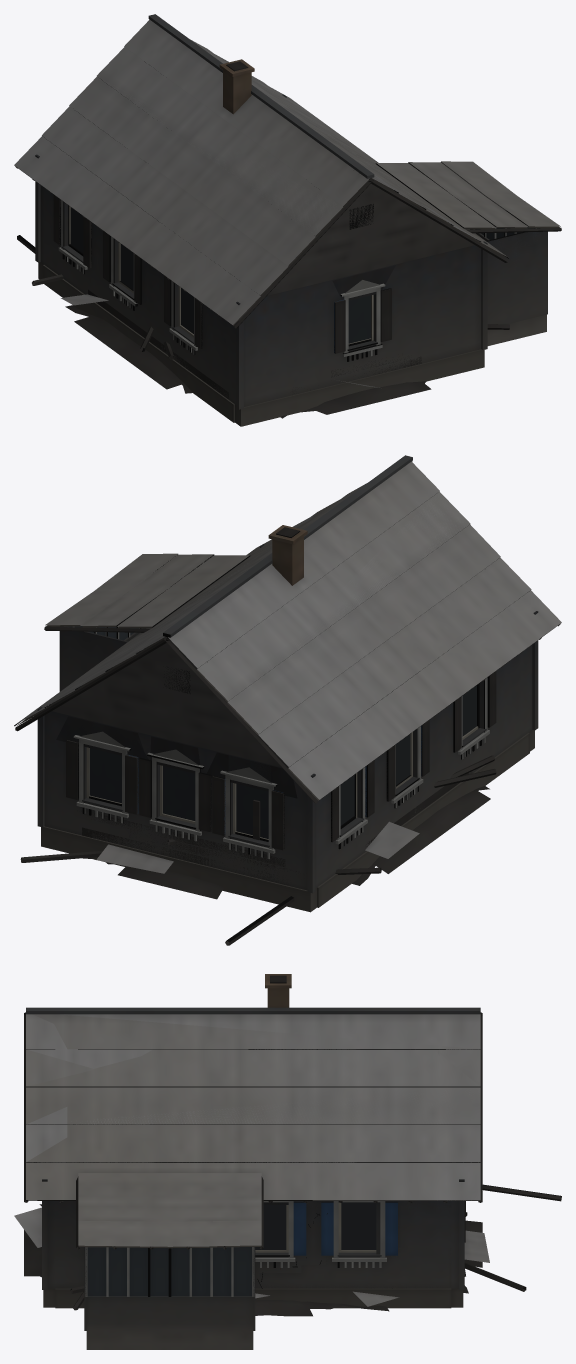
File: ph_wood.glb
The picture shows the model from 3 angles, top to bottom: view 1: azimuth 30°, elevation 25°; view 2: azimuth 150°, elevation 25°; view 3: azimuth 270°, elevation 25°; orthographic projection. The views are drawn at different scales.
Visible parts, largest first — view 1: wood_s0, wood_sruin, wood_s2, wood_s1f, wood_s1g; view 2: wood_s0, wood_sruin, wood_s1f, wood_s2, wood_s1g; view 3: wood_s0, wood_s1g, wood_s2, wood_s1f, wood_sruin.
Part boxes in pixels (<box>): wood_s0: <box>14,14,560,426</box>; wood_sruin: <box>17,235,509,418</box>; wood_s2: <box>40,112,547,353</box>; wood_s1f: <box>15,39,561,348</box>; wood_s1g: <box>59,59,508,353</box>; wood_s0: <box>14,455,561,912</box>; wood_sruin: <box>20,755,496,945</box>; wood_s1f: <box>14,461,560,850</box>; wood_s2: <box>58,512,487,867</box>; wood_s1g: <box>15,493,493,849</box>; wood_s0: <box>26,974,480,1349</box>; wood_s1g: <box>27,1014,480,1288</box>; wood_s2: <box>26,1014,479,1288</box>; wood_s1f: <box>24,1012,482,1283</box>; wood_sruin: <box>14,1184,561,1316</box>.
Size of the model in its own units: 10.7 by 6.97 by 13.15.
Materials: 1 (1 with a texture image).
